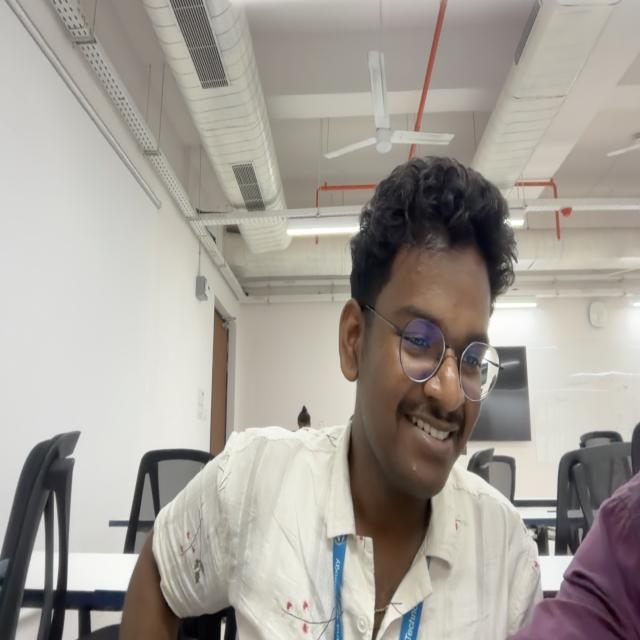sai: (338, 154, 517, 499)
